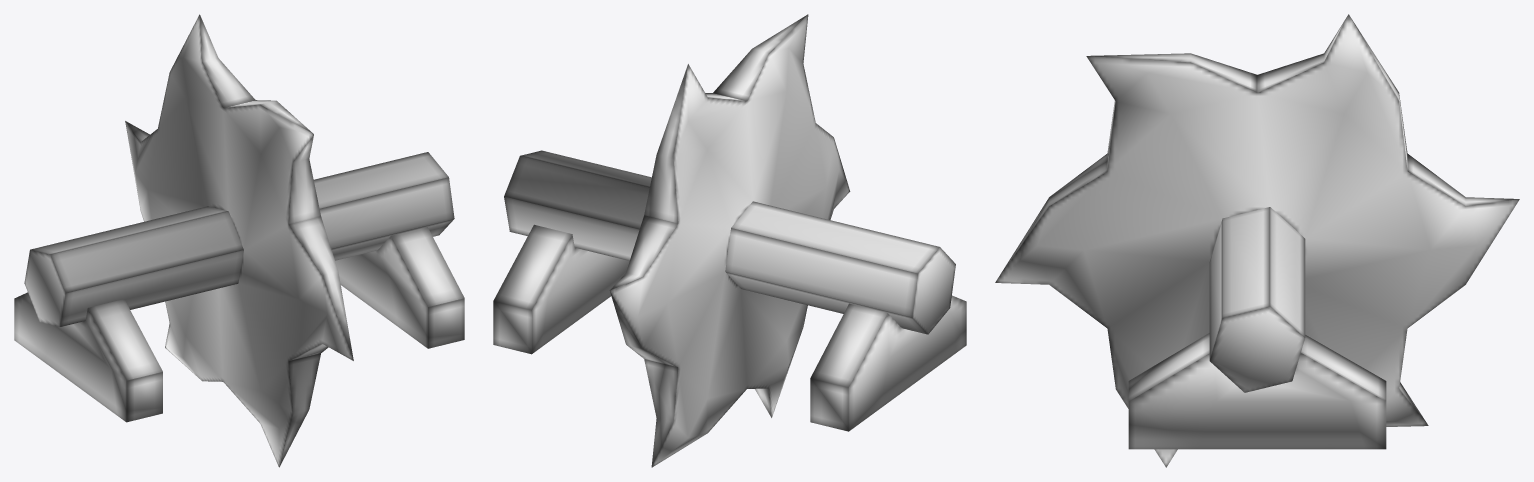
Rendered from Saw-01.fbx.
The picture shows the model from 3 angles, left to right: view 1: azimuth 30°, elevation 25°; view 2: azimuth 150°, elevation 25°; view 3: azimuth 270°, elevation 25°; orthographic projection. The views are drawn at different scales.
Parts seen in each view (by area): view 1: Saw-01, Saw-01-Holders; view 2: Saw-01, Saw-01-Holders; view 3: Saw-01, Saw-01-Holders.
Part boxes in pixels (x1,y1,x2,y2): Saw-01: (24, 14, 454, 467); Saw-01-Holders: (14, 227, 464, 422); Saw-01: (504, 14, 955, 467); Saw-01-Holders: (493, 224, 966, 431); Saw-01: (995, 14, 1519, 467); Saw-01-Holders: (1128, 333, 1386, 449).
Bounding box in the file's own units: 1 × 0.9732 × 1.02.
